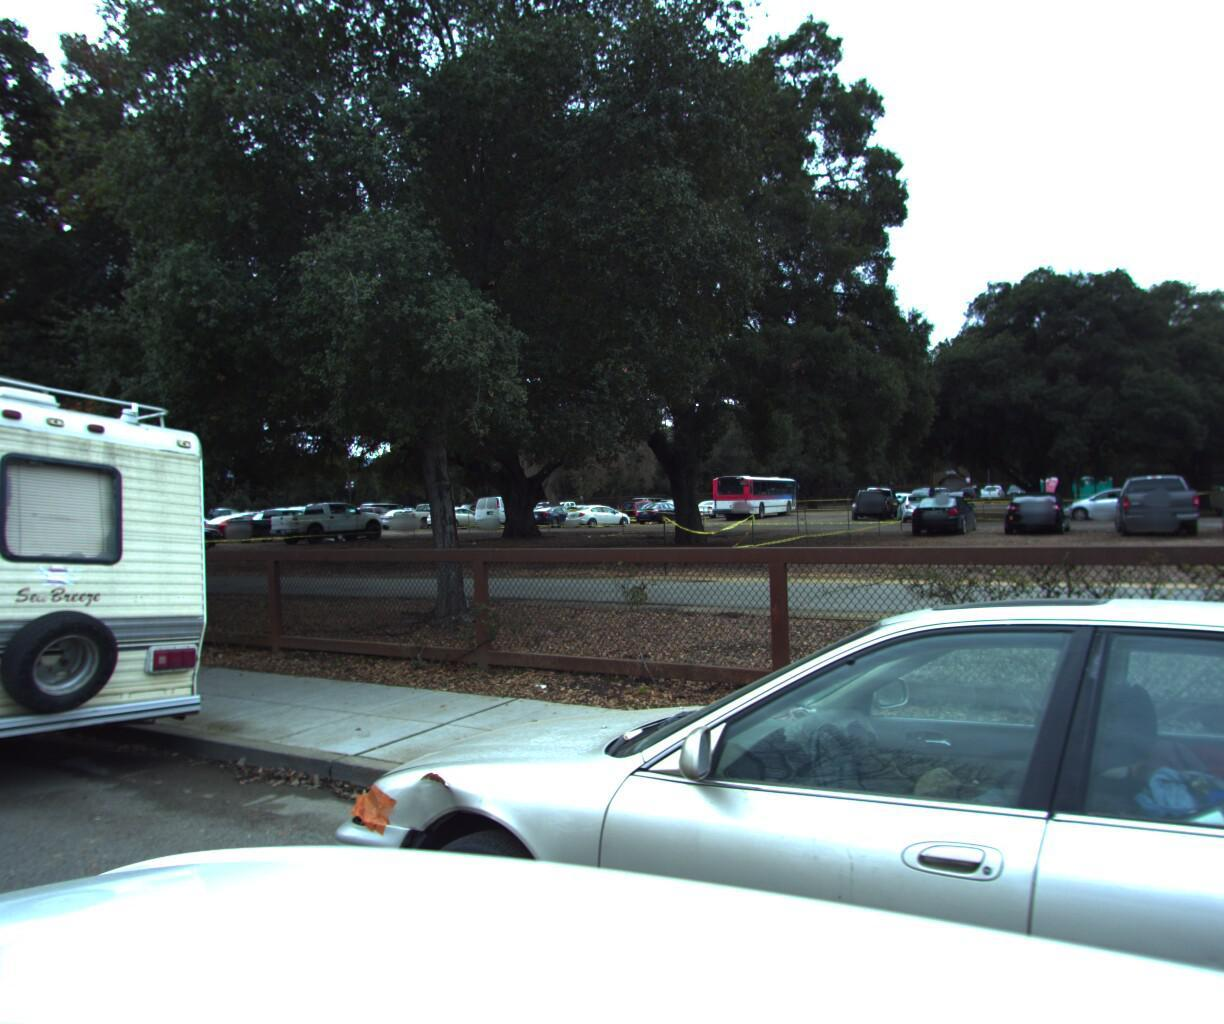car: (262, 553, 1224, 1024)
other_vehicle: (0, 309, 256, 888)
